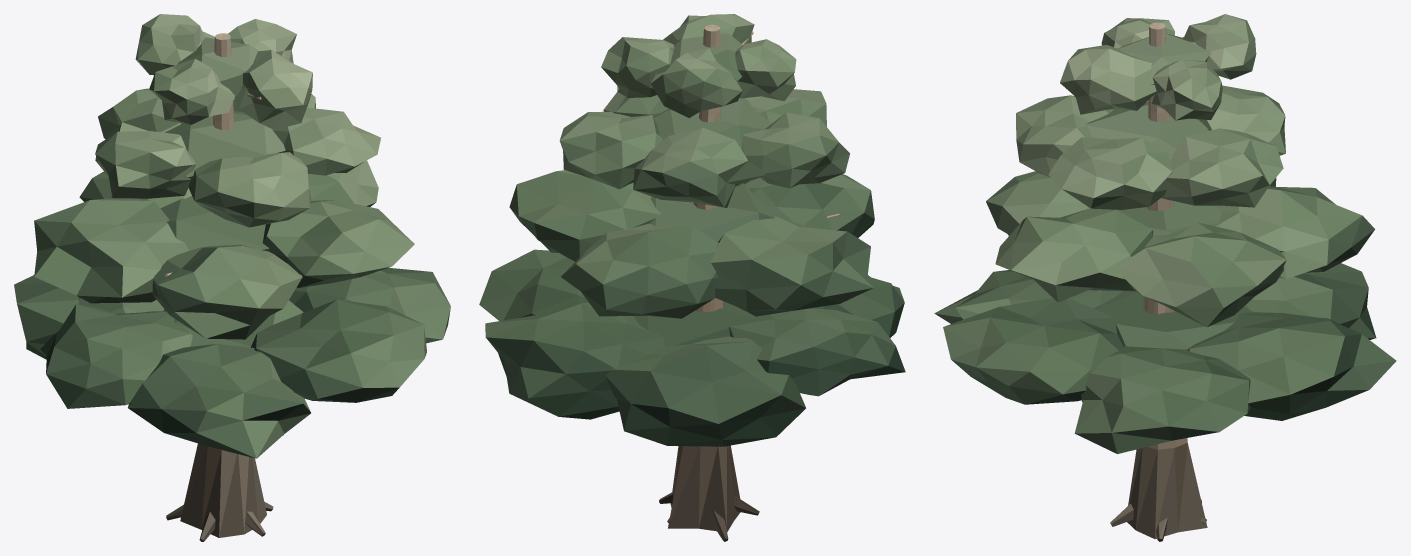
File: broadleaf-column-tiered.glb
The picture shows the model from 3 angles, left to right: view 1: azimuth 30°, elevation 25°; view 2: azimuth 150°, elevation 25°; view 3: azimuth 270°, elevation 25°; orthographic projection.
Visible parts, largest first — view 1: canopy, trunk; view 2: canopy, trunk; view 3: canopy, trunk.
Boxes of the visible parts, box(x1,y1,x2,y2) form: canopy: box(14, 14, 450, 458); trunk: box(165, 33, 273, 541); canopy: box(479, 14, 905, 446); trunk: box(659, 24, 839, 541); canopy: box(934, 14, 1396, 453); trunk: box(1110, 22, 1207, 541).
Size of the model in its own units: 5.47 by 6.54 by 5.54.
